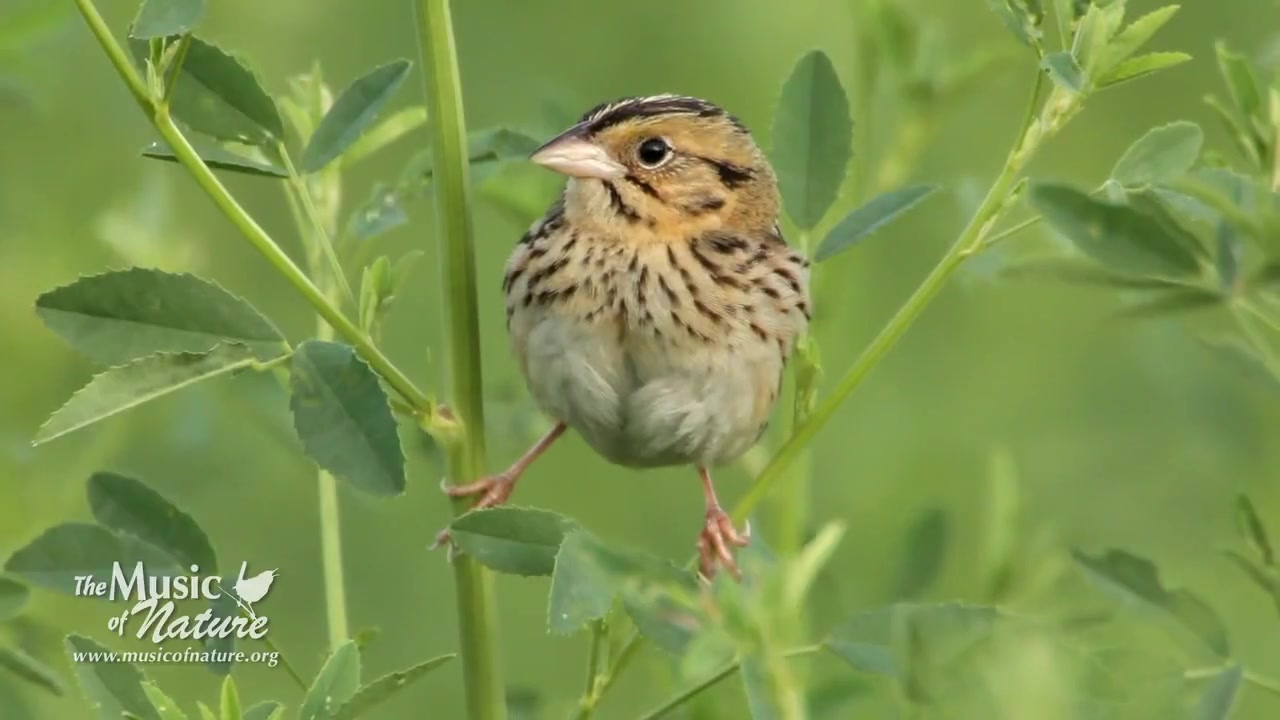bird: (428, 93, 815, 588)
